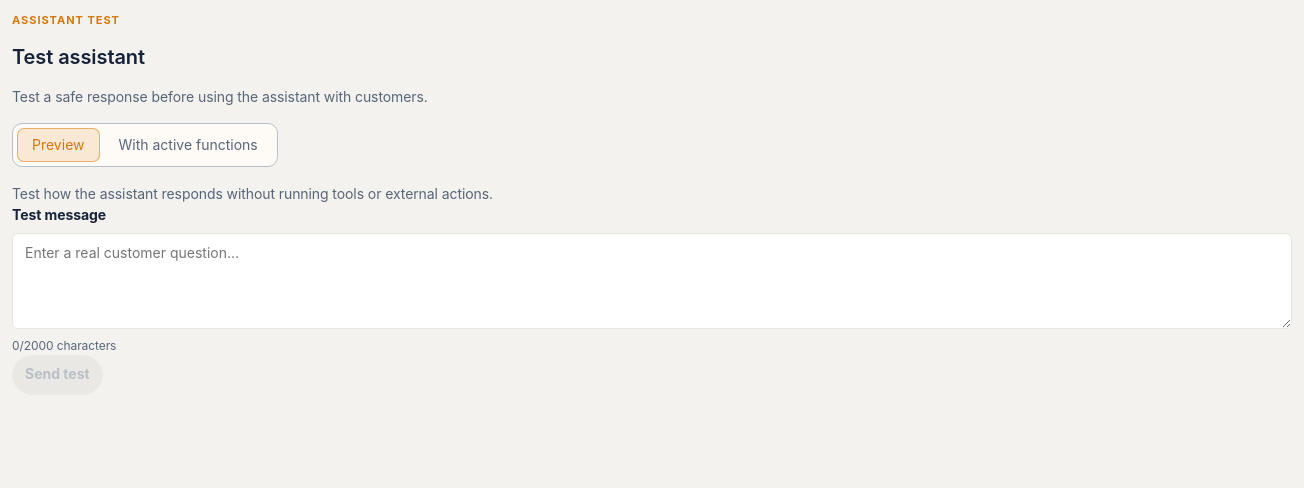
Test case: uses only the selected real endpoint for each customer mode
Type "Question" into the text box at (652, 280), box [12, 232, 1292, 328]
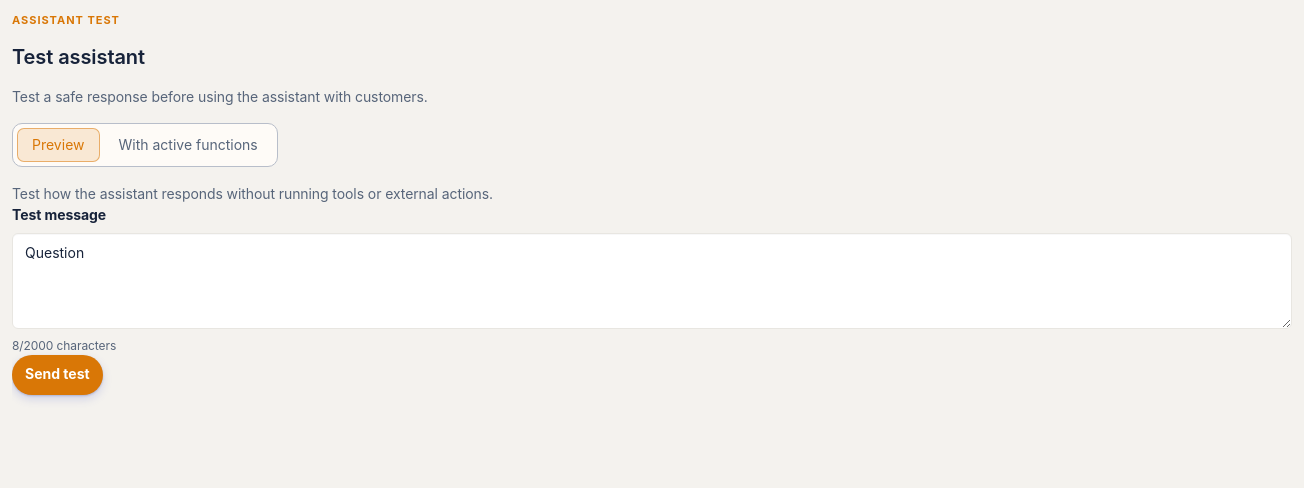
Click the button "Send test" at (57, 374), box [12, 354, 103, 394]
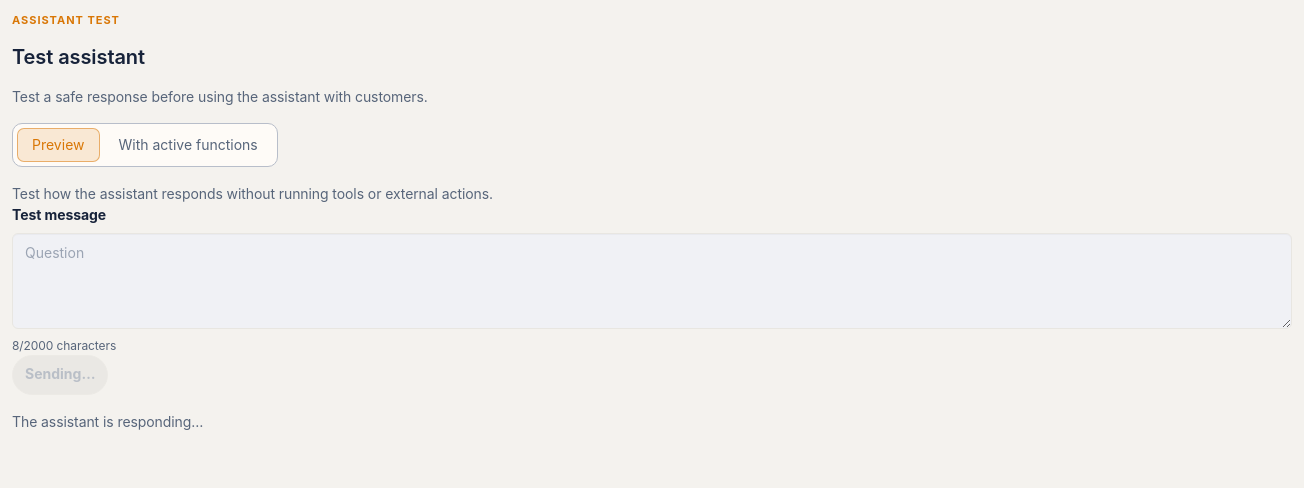
expect the tab "Preview" is shown: met, box [17, 128, 100, 162]
Click the tab "With active functions" at (188, 144), box [104, 128, 273, 162]
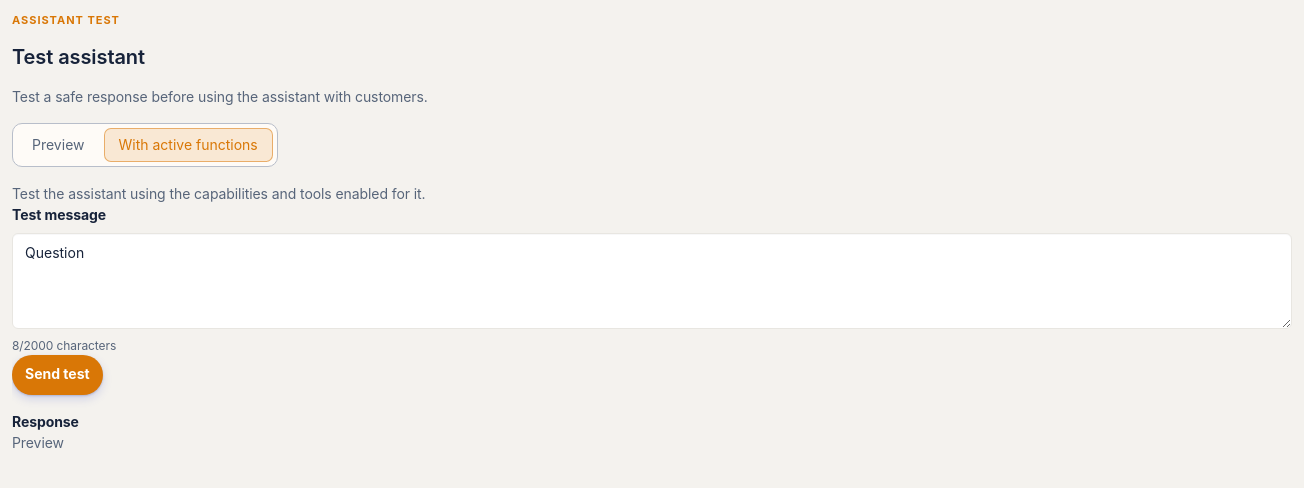
Replace the text in the text box with "Another" at (652, 280), box [12, 232, 1292, 328]
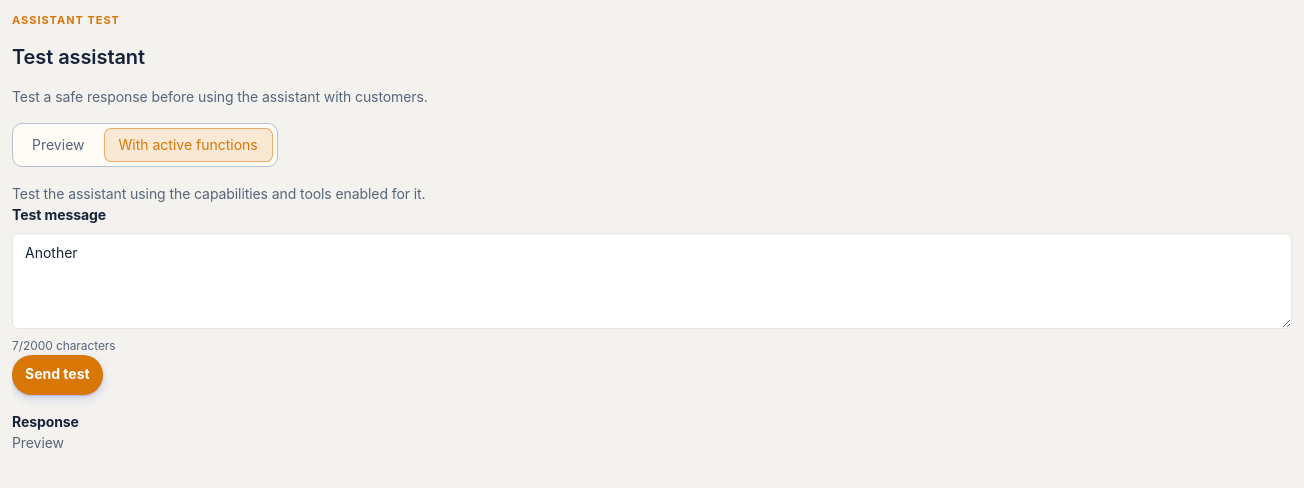
Click the button "Send test" at (57, 374), box [12, 354, 103, 394]
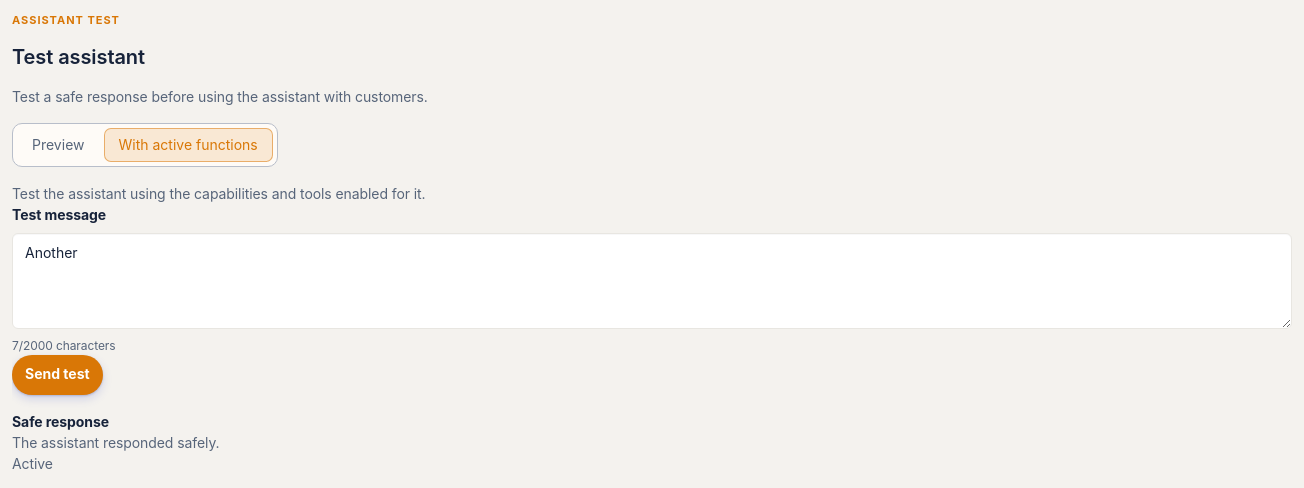
expect the text "Active" is shown: met, box [12, 454, 53, 472]
expect the text "The assistant responded safely." is shown: met, box [12, 434, 220, 450]
